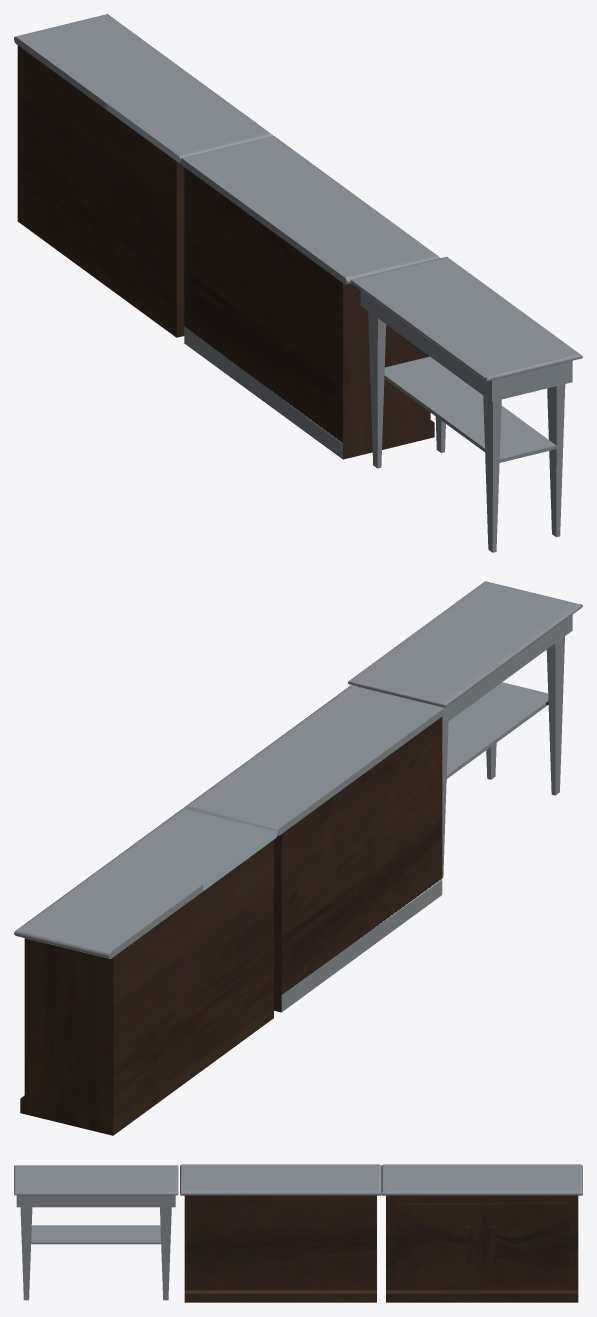
The model's file is BackKitchenCountertop.fbx.
The picture shows the model from 3 angles, top to bottom: view 1: azimuth 30°, elevation 25°; view 2: azimuth 150°, elevation 25°; view 3: azimuth 270°, elevation 25°; orthographic projection. The views are drawn at different scales.
Visible parts, largest first — view 1: kitchentopplain, kitchentopwithdoor, Contertopwithshelf; view 2: kitchentopwithdoor, kitchentopplain, Contertopwithshelf; view 3: kitchentopplain, kitchentopwithdoor, Contertopwithshelf.
Part boxes in pixels (bbox=[...]): kitchentopplain: bbox=[180, 136, 440, 459]; kitchentopwithdoor: bbox=[14, 14, 273, 337]; Contertopwithshelf: bbox=[350, 256, 582, 552]; kitchentopwithdoor: bbox=[14, 808, 277, 1135]; kitchentopplain: bbox=[183, 685, 445, 1012]; Contertopwithshelf: bbox=[347, 581, 582, 877]; kitchentopplain: bbox=[180, 1164, 381, 1302]; kitchentopwithdoor: bbox=[381, 1164, 582, 1302]; Contertopwithshelf: bbox=[14, 1165, 178, 1300].
Size of the model in its own units: 2.24 by 3.97 by 18.42.
Materials: 1 (1 with a texture image).
